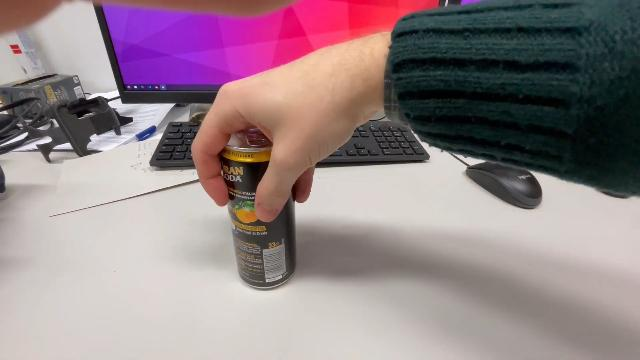OranSoda: (214, 120, 302, 294)
